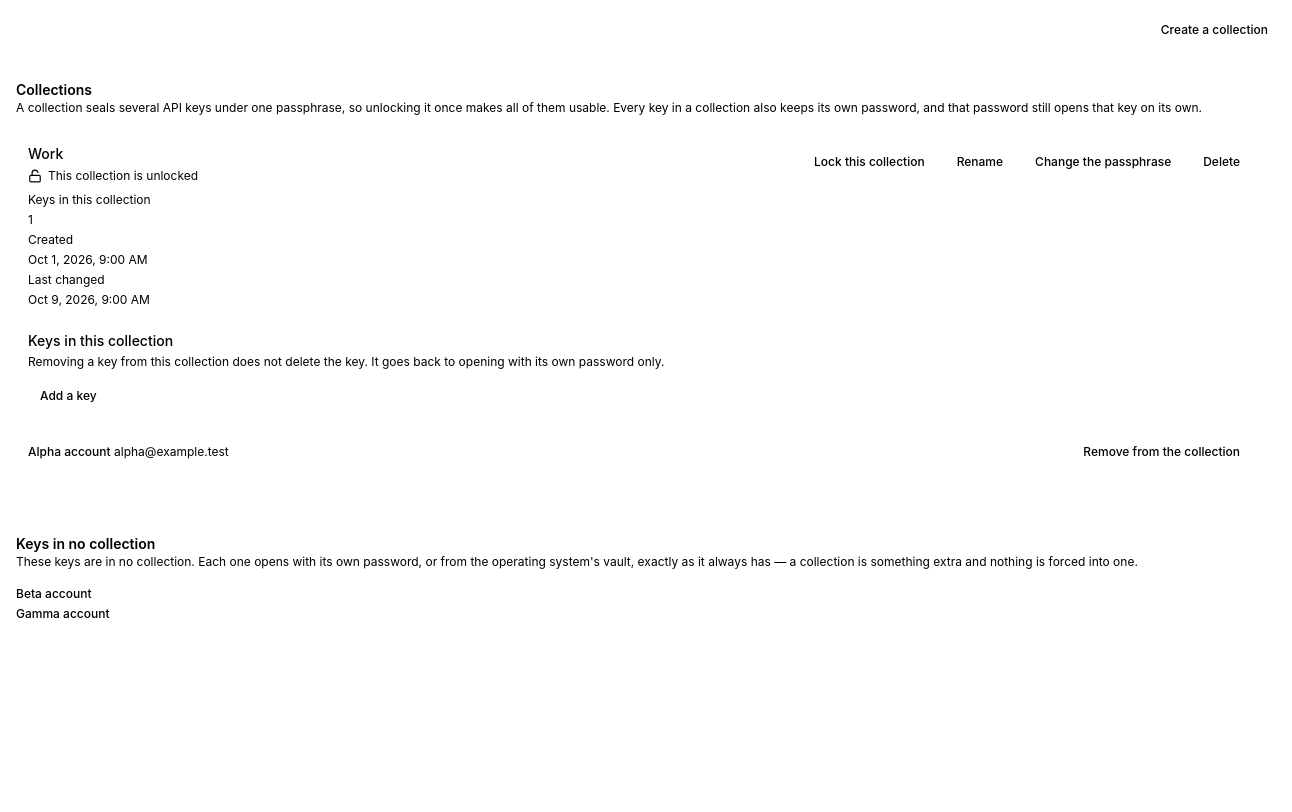
Test: a refusal that changed nothing does not provoke a re-read
The width and height of the screenshot is (1292, 812).
What coordinates should you click on to do the following:
click the button with test id "collection-col-work-remove-key-alpha"
I would click on:
 (1162, 452)
Its box is top-left (1071, 434), bottom-right (1252, 470).
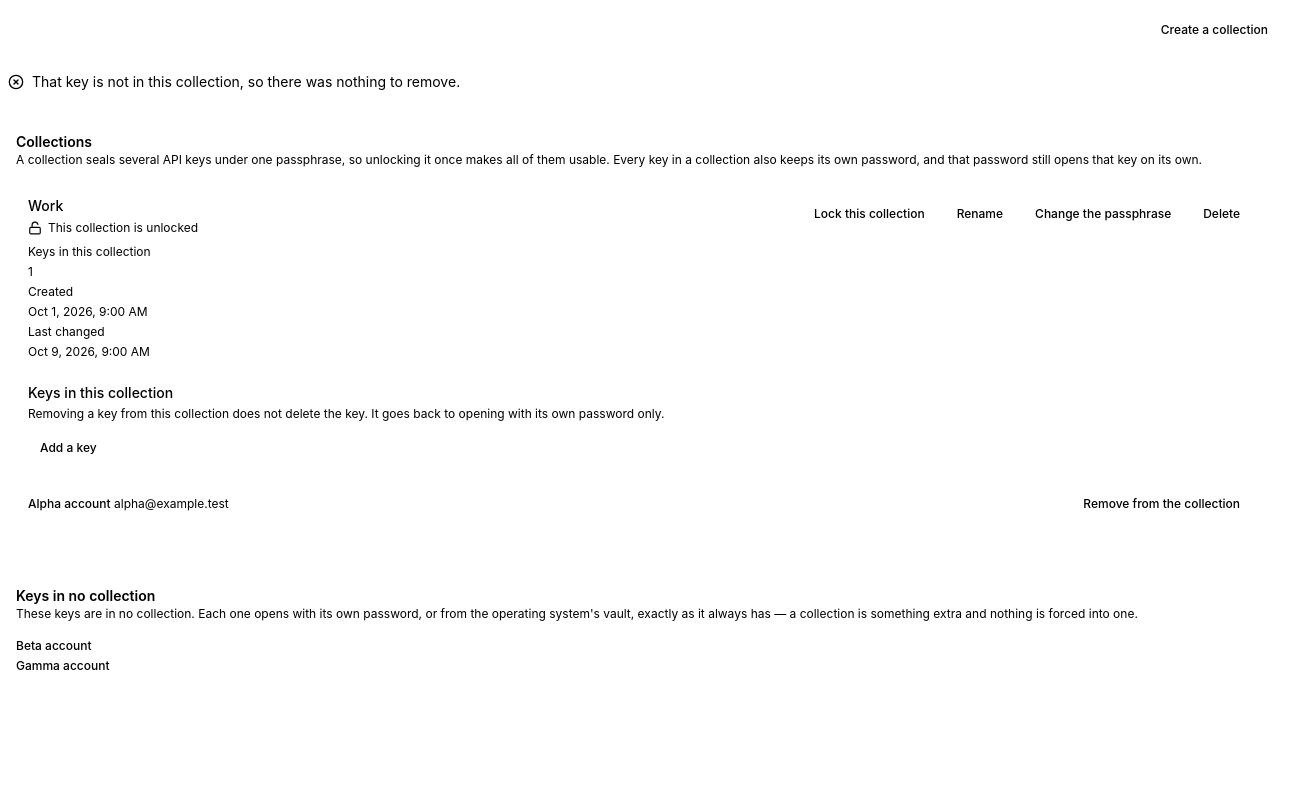
Check: the message "That key is not in this collection, so there was nothing to remove." is shown, box top-left (8, 73), bottom-right (460, 90)
